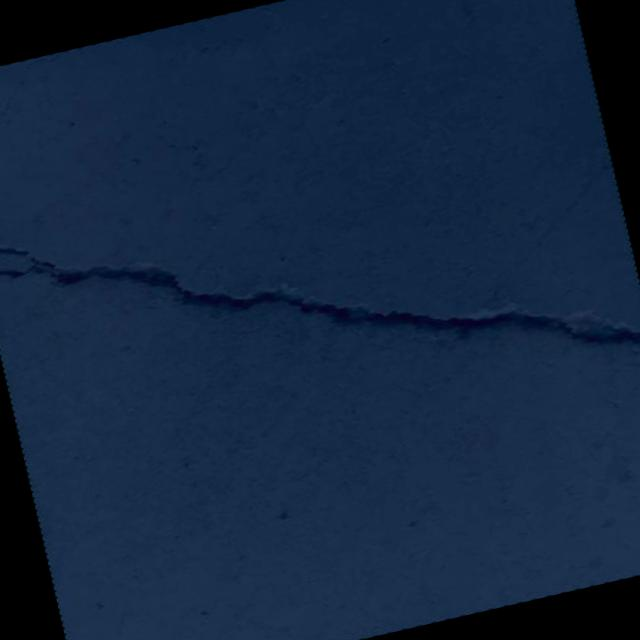crack: (0, 101, 640, 486), (0, 51, 77, 144)
